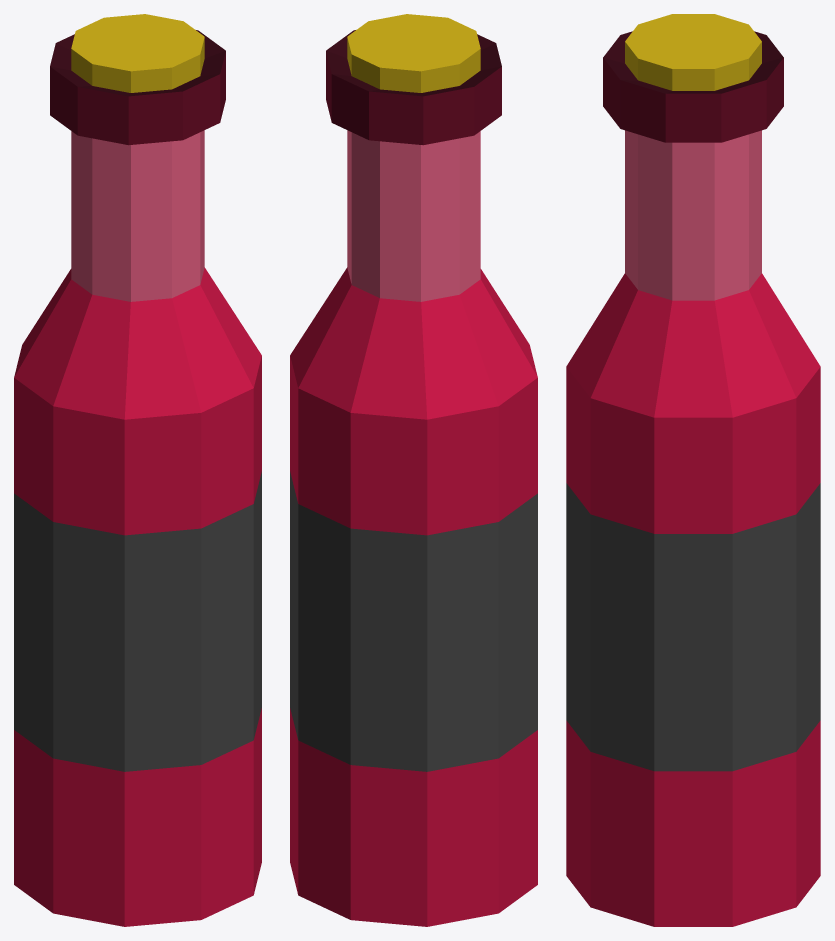
The model's file is Alcohol.fbx.
The picture shows the model from 3 angles, left to right: view 1: azimuth 30°, elevation 25°; view 2: azimuth 150°, elevation 25°; view 3: azimuth 270°, elevation 25°; orthographic projection.
Parts seen in each view (by area): view 1: Circle; view 2: Circle; view 3: Circle.
Part boxes in pixels (left/top/right/bottom): Circle: left=14, top=14, right=261, bottom=926; Circle: left=290, top=14, right=537, bottom=926; Circle: left=566, top=14, right=820, bottom=926.
Bounding box in the file's own units: 190 × 724 × 200.
Materials: 1 (1 with a texture image).
